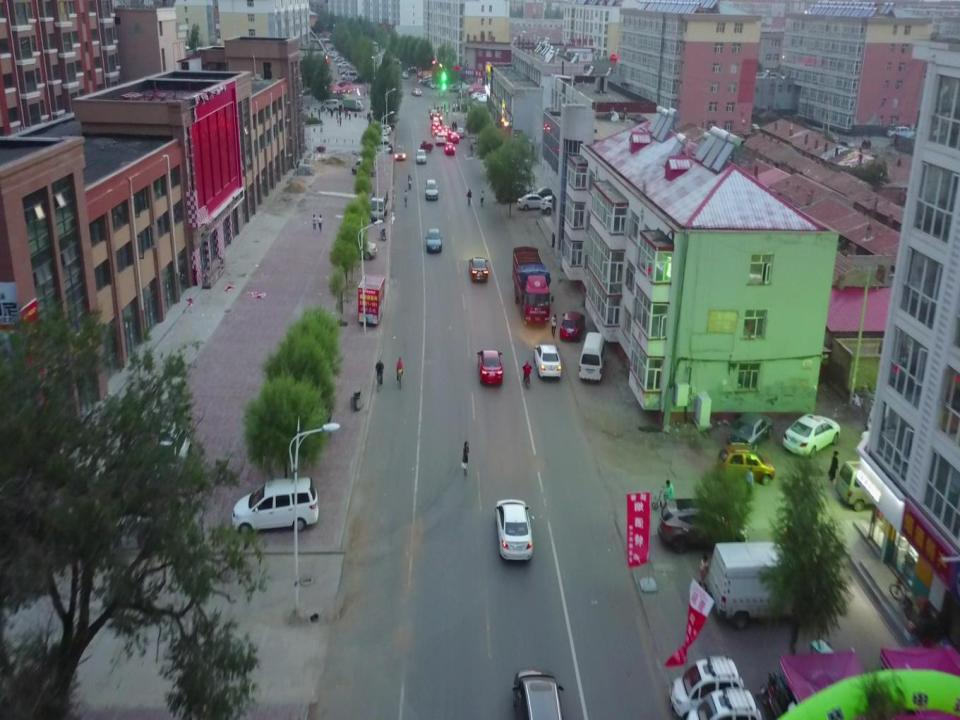car: (657, 496, 748, 553), (510, 667, 567, 720), (715, 442, 776, 486), (783, 413, 840, 458), (494, 499, 534, 562), (724, 411, 774, 453), (533, 343, 563, 380), (476, 349, 503, 386), (334, 238, 378, 260), (559, 310, 587, 342), (469, 256, 489, 283), (426, 228, 442, 253), (373, 124, 392, 139), (425, 179, 439, 199), (376, 132, 389, 145), (394, 146, 406, 160), (416, 148, 426, 164), (447, 132, 459, 144), (444, 142, 455, 155), (435, 133, 445, 146), (432, 113, 443, 124), (431, 120, 441, 132), (456, 127, 465, 138), (443, 126, 451, 138), (430, 109, 438, 119)
truck: (512, 244, 555, 323), (369, 186, 388, 222), (343, 98, 364, 111)
van: (708, 540, 818, 629), (231, 476, 318, 535), (835, 459, 905, 512), (578, 332, 605, 382), (350, 157, 377, 177), (322, 98, 338, 110)
